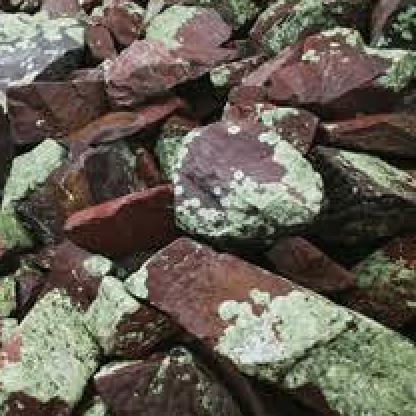Metamorphic_Quartize: (122, 238, 414, 404), (168, 104, 330, 246), (222, 24, 415, 117), (92, 0, 244, 110), (2, 0, 82, 108), (2, 134, 80, 232)
